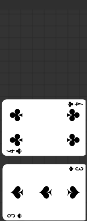4C: (5, 147, 23, 156)
